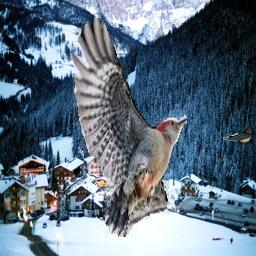Swallow: (223, 126, 252, 143)
Woodpecker: (71, 13, 187, 237)
